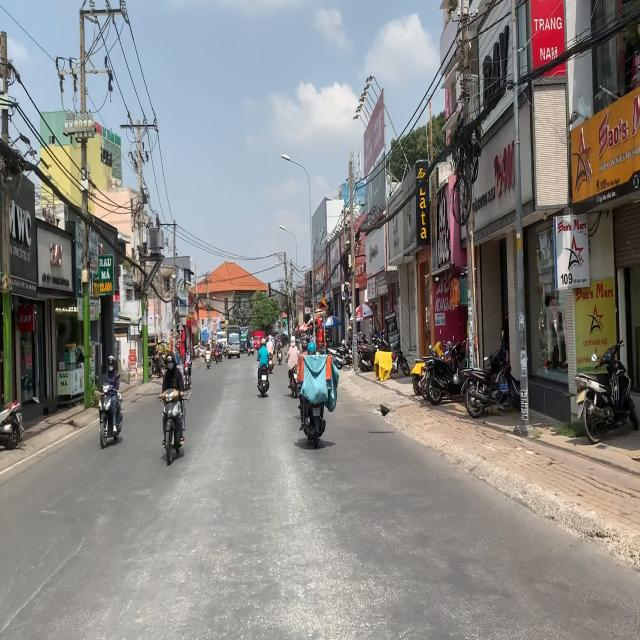Nguy hiem: (318, 295, 328, 309)
